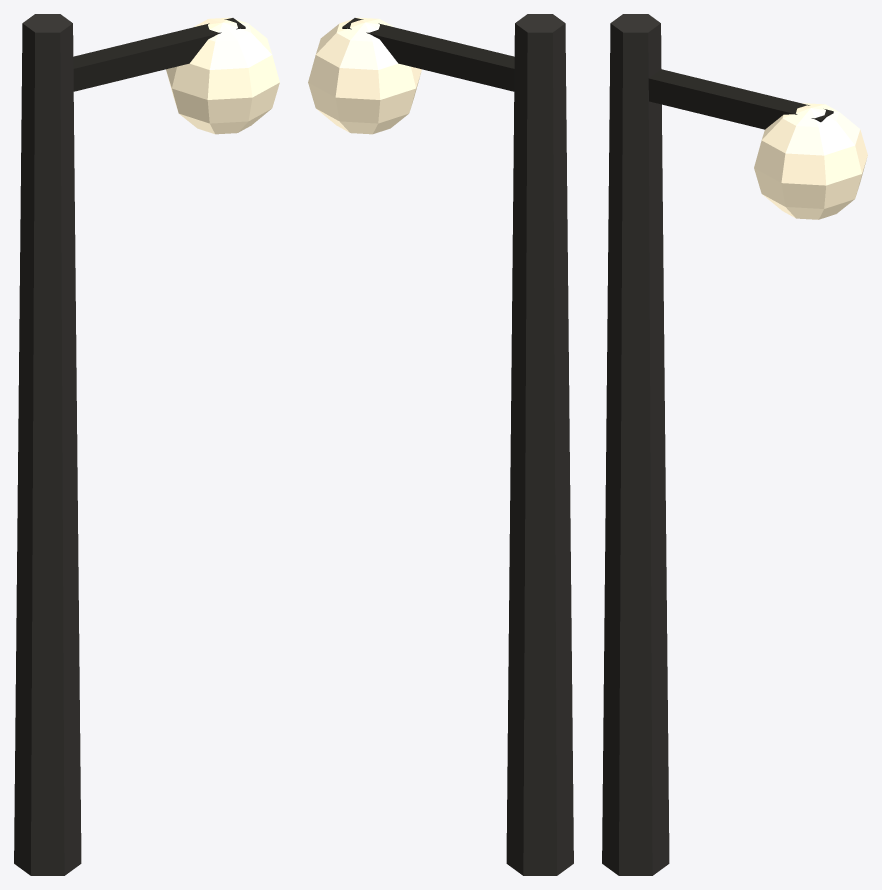
The model's file is lamp.glb.
3 renders of one model, left to right at view 1: azimuth 30°, elevation 25°; view 2: azimuth 150°, elevation 25°; view 3: azimuth 330°, elevation 25°, orthographic.
Parts seen in each view (by area): view 1: n1, n5, n3; view 2: n1, n5, n3; view 3: n1, n5, n3.
Boxes of the visible parts, bbox=[...] form: n1: bbox=[14, 14, 81, 875]; n5: bbox=[166, 17, 279, 134]; n3: bbox=[73, 18, 245, 91]; n1: bbox=[506, 14, 573, 875]; n5: bbox=[308, 17, 421, 134]; n3: bbox=[342, 18, 514, 91]; n1: bbox=[602, 14, 669, 875]; n5: bbox=[754, 103, 867, 219]; n3: bbox=[648, 69, 833, 129].
Bounding box in the file's own units: 0.6893 × 2.2 × 0.28.
